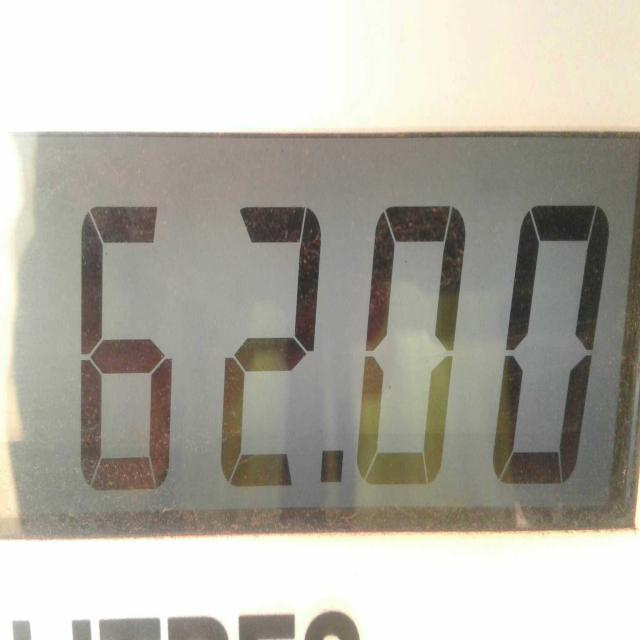.: (315, 442, 366, 533)
0: (346, 204, 462, 503), (497, 203, 608, 488)
2: (229, 208, 313, 488)
6: (78, 208, 180, 486)
